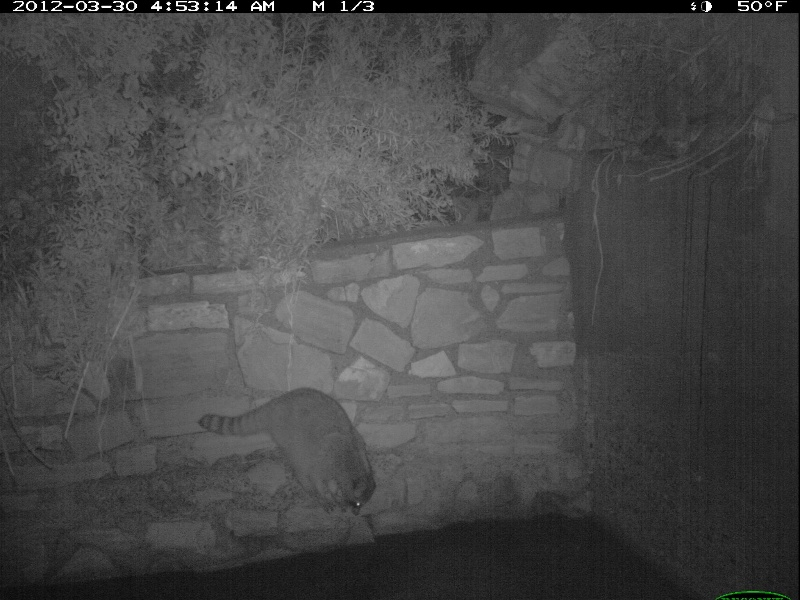raccoon: (195, 389, 378, 515)
